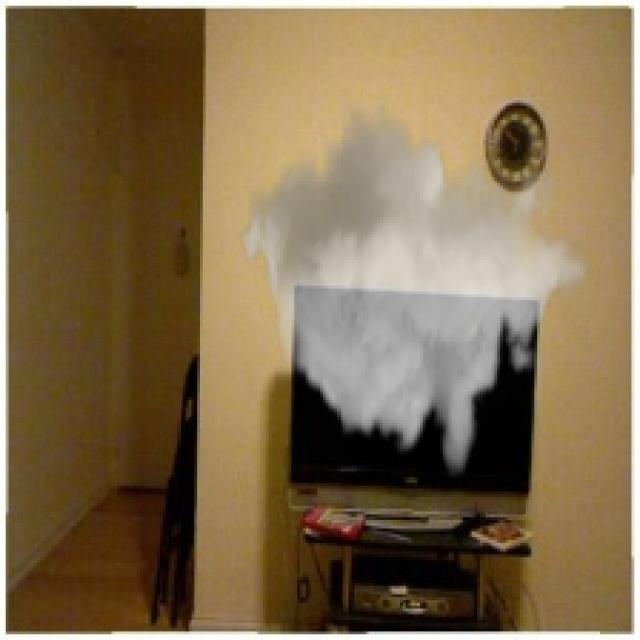Smoke: (237, 94, 589, 477)
